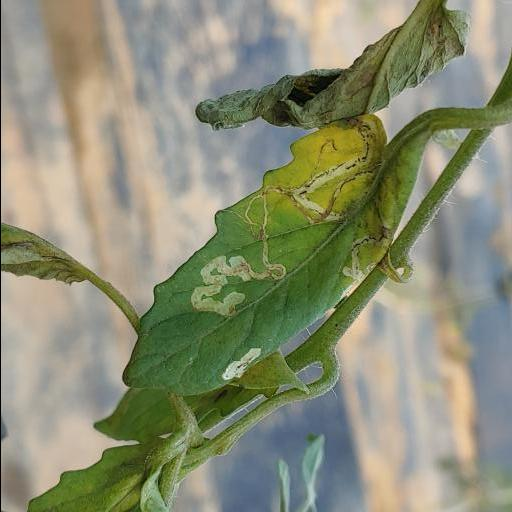Leaf Miner: (121, 113, 428, 397)
